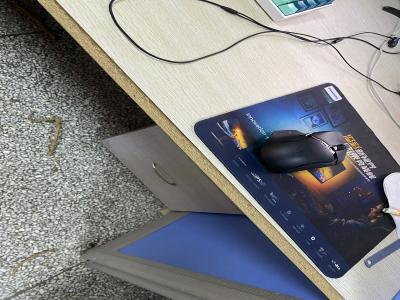Root: (28, 111, 61, 156), (42, 117, 61, 122)
